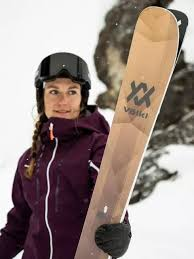skis: (72, 6, 188, 259)
